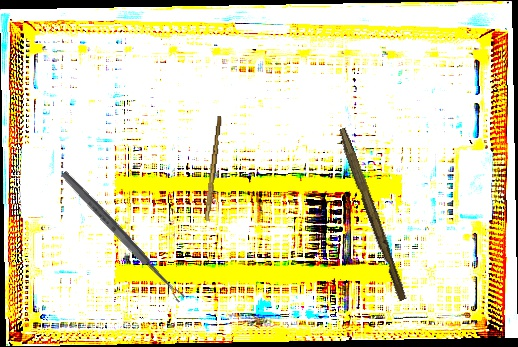Scalpel Handle: (333, 127, 411, 302), (204, 115, 223, 222)
Surgical Spoon: (59, 169, 186, 304)
